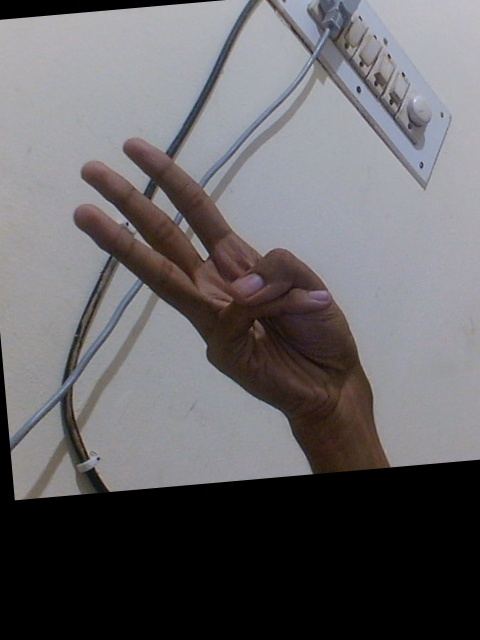hand: (65, 129, 369, 428)
